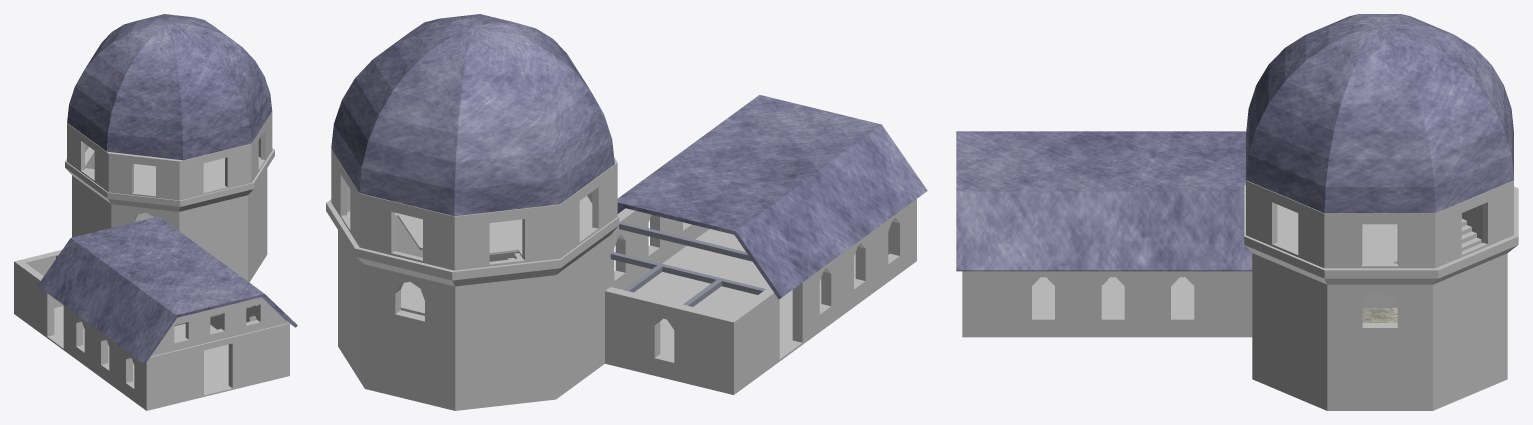
Rendered from keep.fbx.
3 renders of one model, left to right at view 1: azimuth 30°, elevation 25°; view 2: azimuth 150°, elevation 25°; view 3: azimuth 270°, elevation 25°, orthographic. The views are drawn at different scales.
Visible parts, largest first — view 1: stonebuilding, DomeTower, rooftop0, towertop, rooftop1, floorBuilding, towerfloorUP; view 2: stonebuilding, DomeTower, rooftop0, towertop, floorBuilding, Beam, towerfloorUP; view 3: stonebuilding, DomeTower, rooftop0, towertop, floorBuilding, towerfloorUP, floorTower.
Part boxes in pixels (x1,y1,x2,y2): stonebuilding: [14, 144, 289, 410]; DomeTower: [67, 14, 272, 160]; rooftop0: [37, 216, 297, 364]; towertop: [67, 112, 272, 200]; rooftop1: [151, 297, 287, 356]; floorBuilding: [54, 306, 228, 391]; towerfloorUP: [85, 158, 224, 194]; stonebuilding: [326, 192, 916, 410]; DomeTower: [331, 14, 614, 216]; rooftop0: [617, 95, 927, 299]; towertop: [331, 149, 617, 270]; floorBuilding: [634, 229, 855, 357]; Beam: [610, 222, 765, 294]; towerfloorUP: [395, 209, 591, 257]; stonebuilding: [962, 185, 1518, 410]; DomeTower: [1246, 14, 1513, 213]; rooftop0: [956, 131, 1252, 271]; towertop: [1246, 131, 1513, 268]; floorBuilding: [1032, 277, 1194, 314]; towerfloorUP: [1277, 204, 1397, 263]; floorTower: [1362, 308, 1397, 322].
Bounding box in the file's own units: 1837 × 1595 × 2421.
